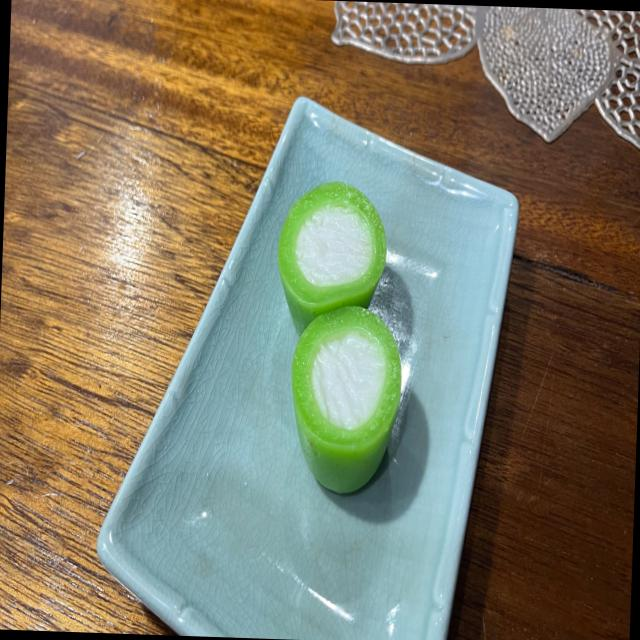nona-manis: (291, 305, 401, 492), (277, 180, 386, 333)
